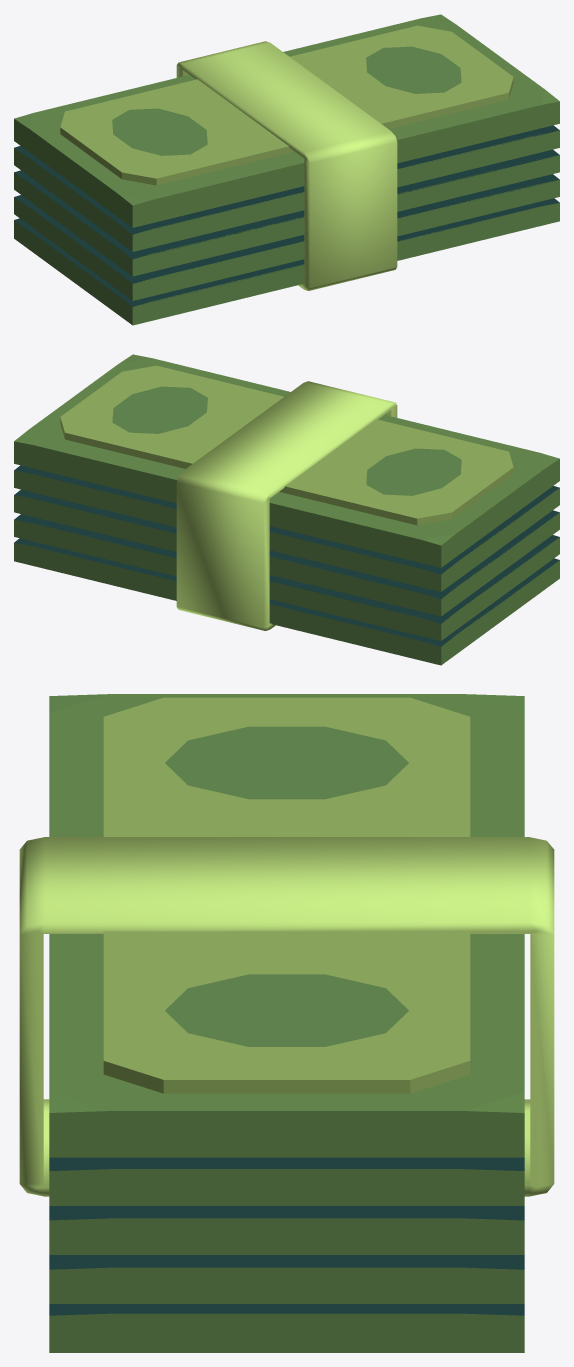
The model's file is Dollar.fbx.
3 renders of one model, top to bottom at view 1: azimuth 30°, elevation 25°; view 2: azimuth 150°, elevation 25°; view 3: azimuth 270°, elevation 25°, orthographic. The views are drawn at different scales.
Visible parts, largest first — view 1: Cube.005; view 2: Cube.005; view 3: Cube.005.
Boxes of the visible parts, <box> form: Cube.005: <box>14,14,559,325</box>; Cube.005: <box>14,354,559,665</box>; Cube.005: <box>19,694,554,1352</box>.
Bounding box in the file's own units: 0.6633 × 0.2037 × 0.3596.
